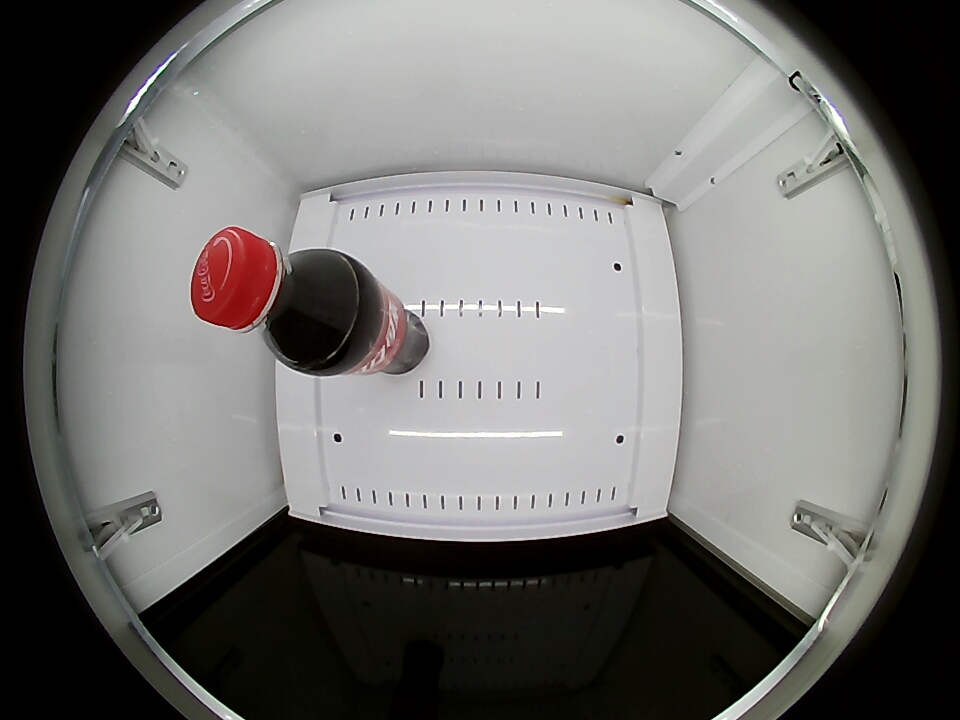kele-b: (191, 227, 355, 367)
